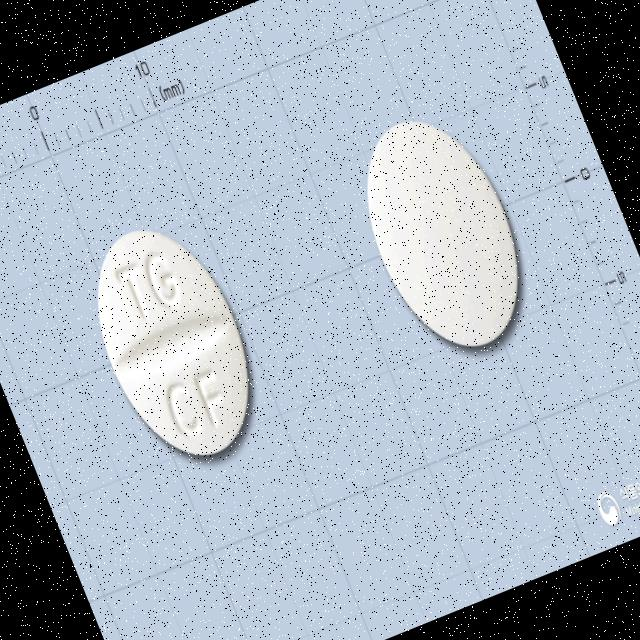Taiguk Ciprofloxacin HCl Tab: (336, 95, 549, 368), (68, 207, 279, 478)
